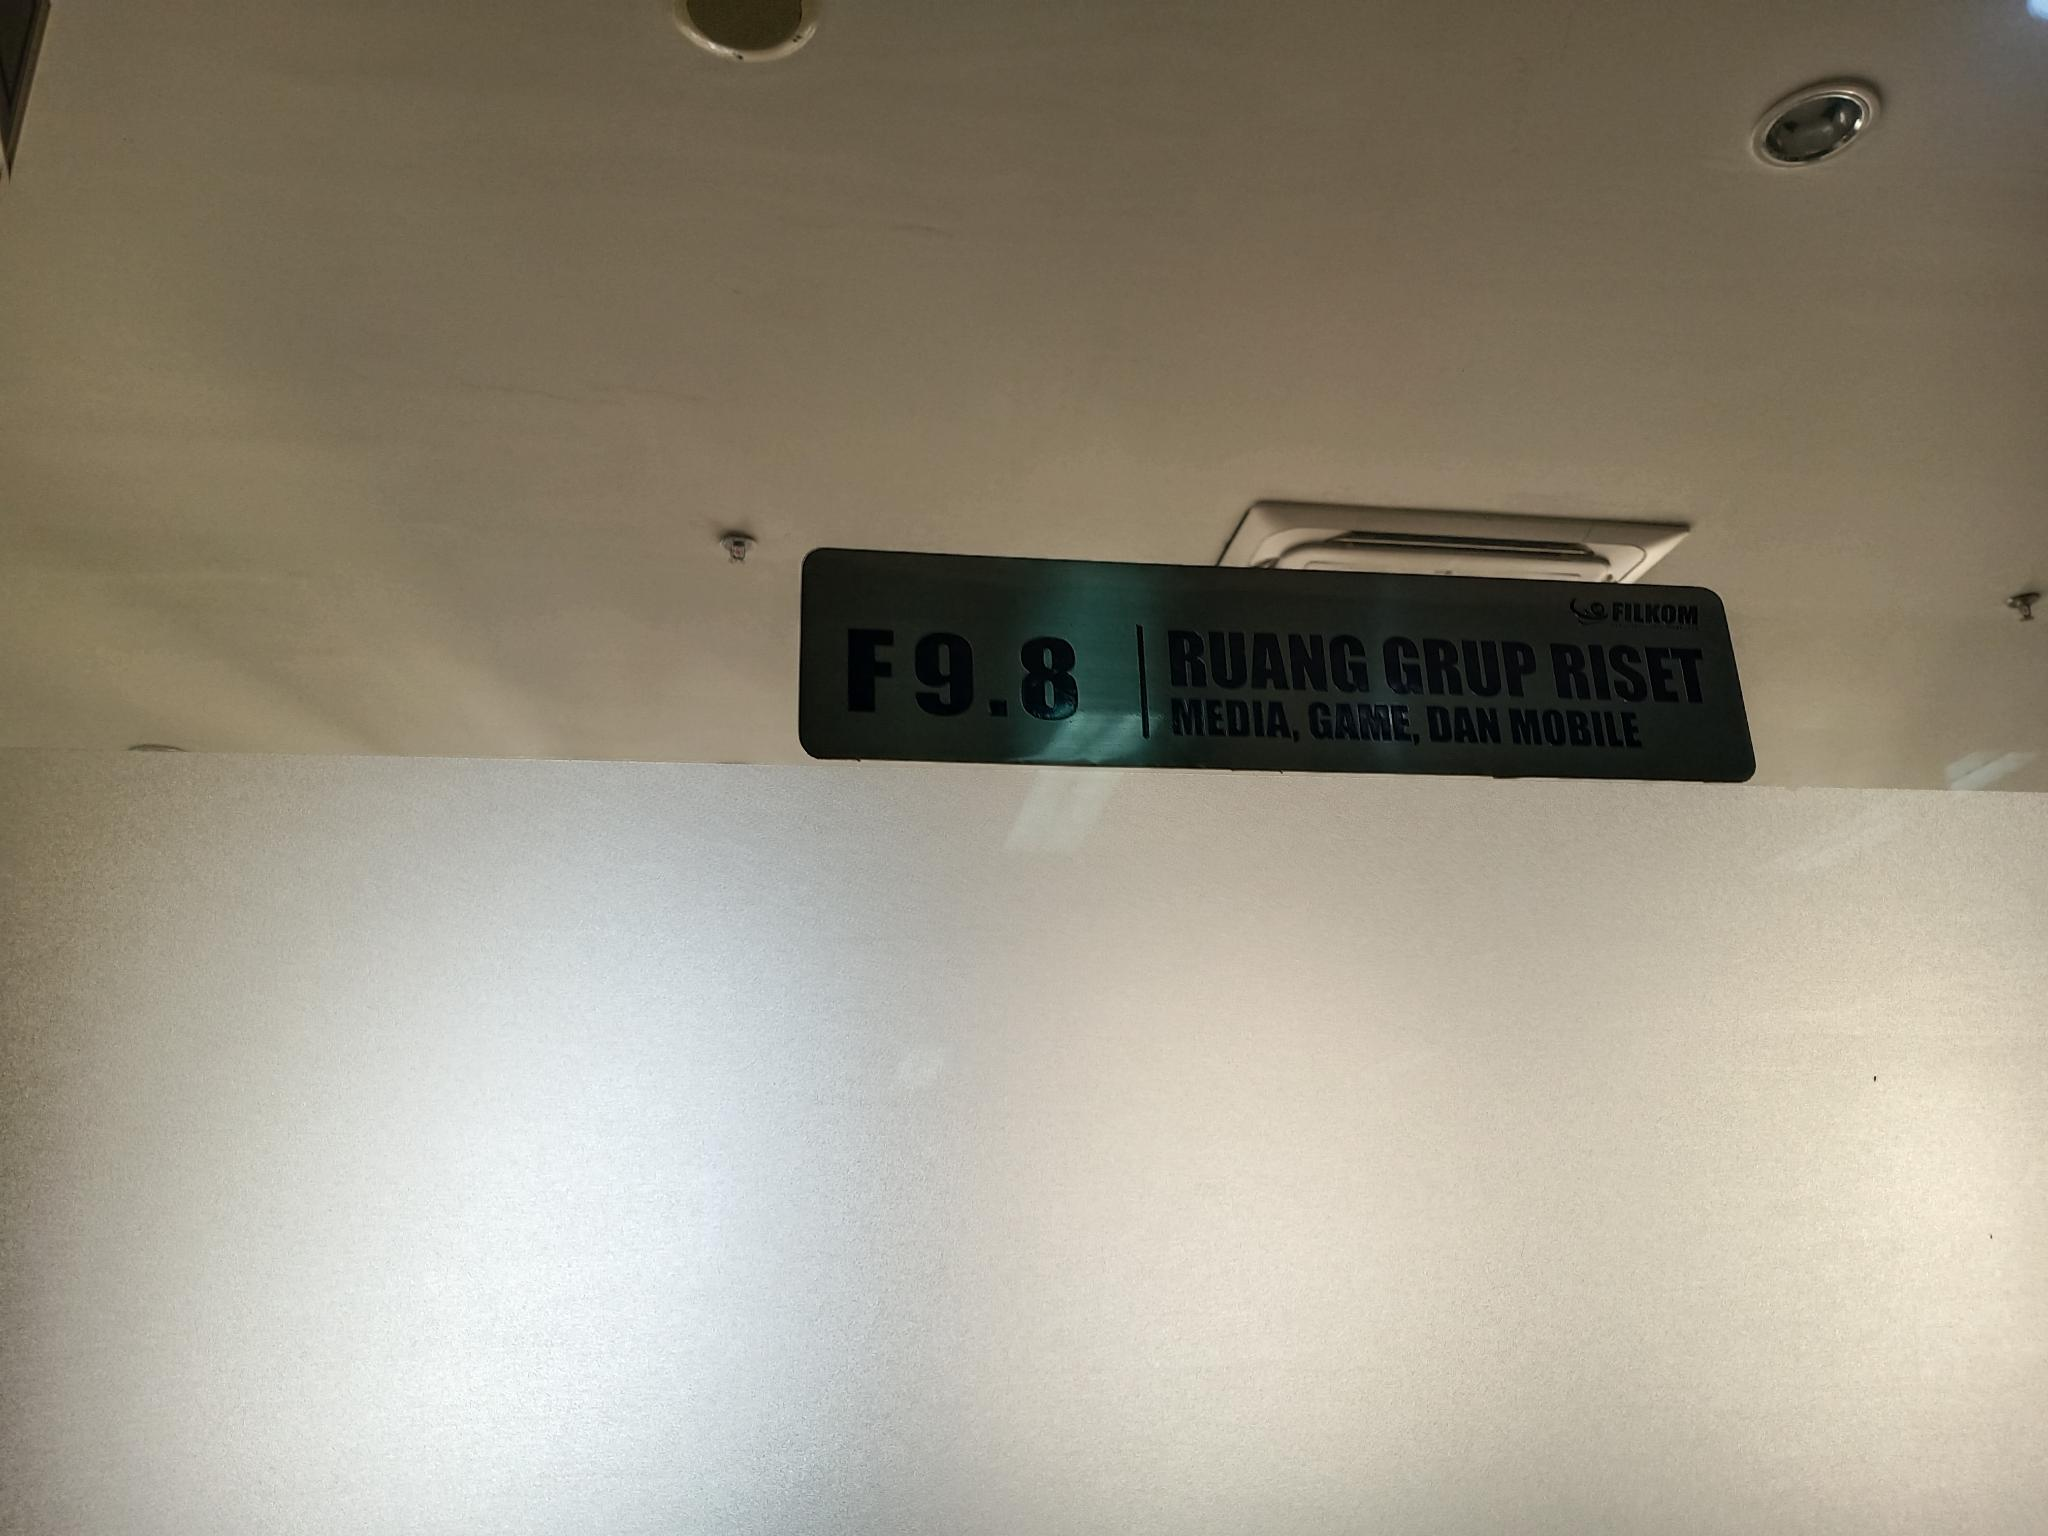plate: (798, 545, 1759, 787)
